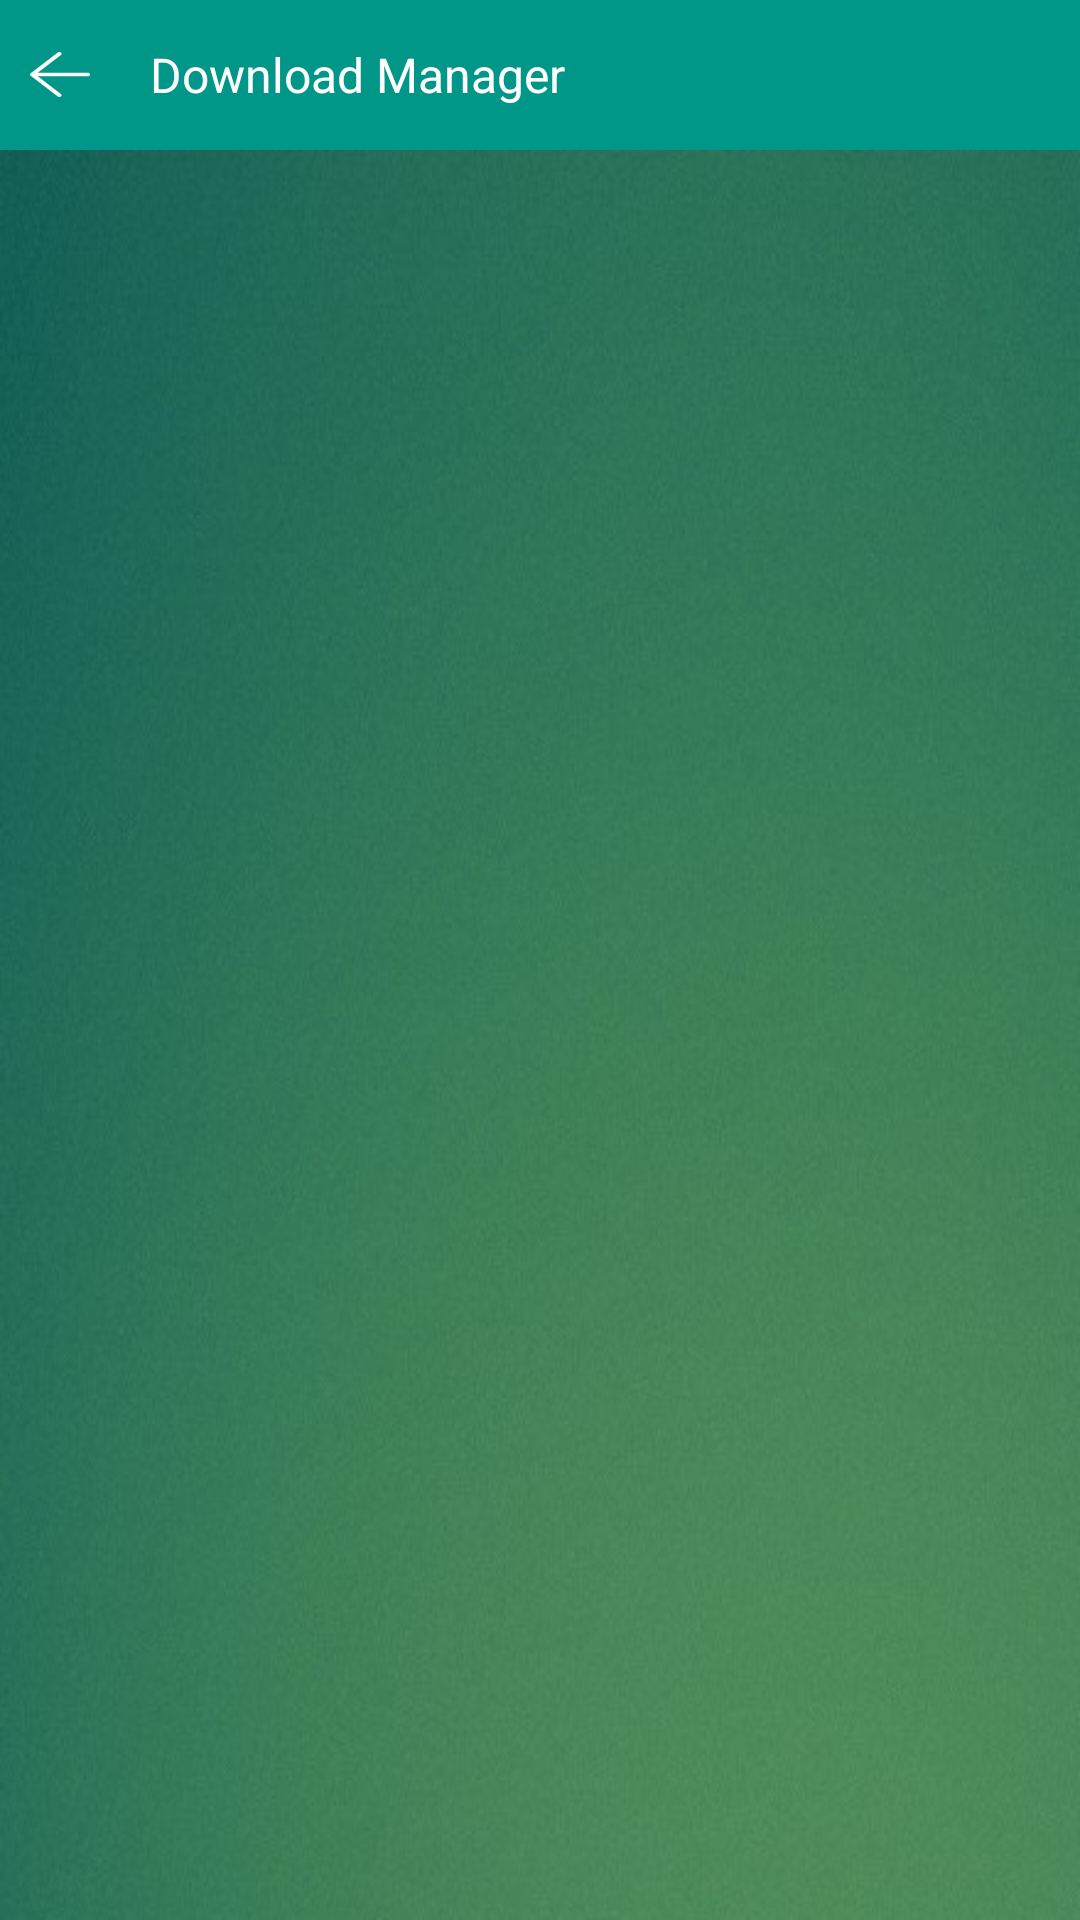

Named icons in this screenshot (1080×1920) and their bounding boxes, (x1, y1, x2, y2):
back: (30, 52, 90, 97)
